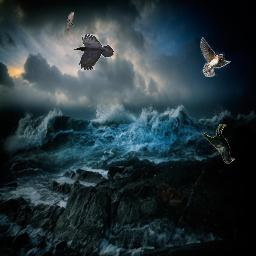Crow: (74, 34, 114, 70), (202, 124, 235, 164)
Cuckoo: (65, 12, 74, 32)
Swallow: (200, 37, 231, 77)
